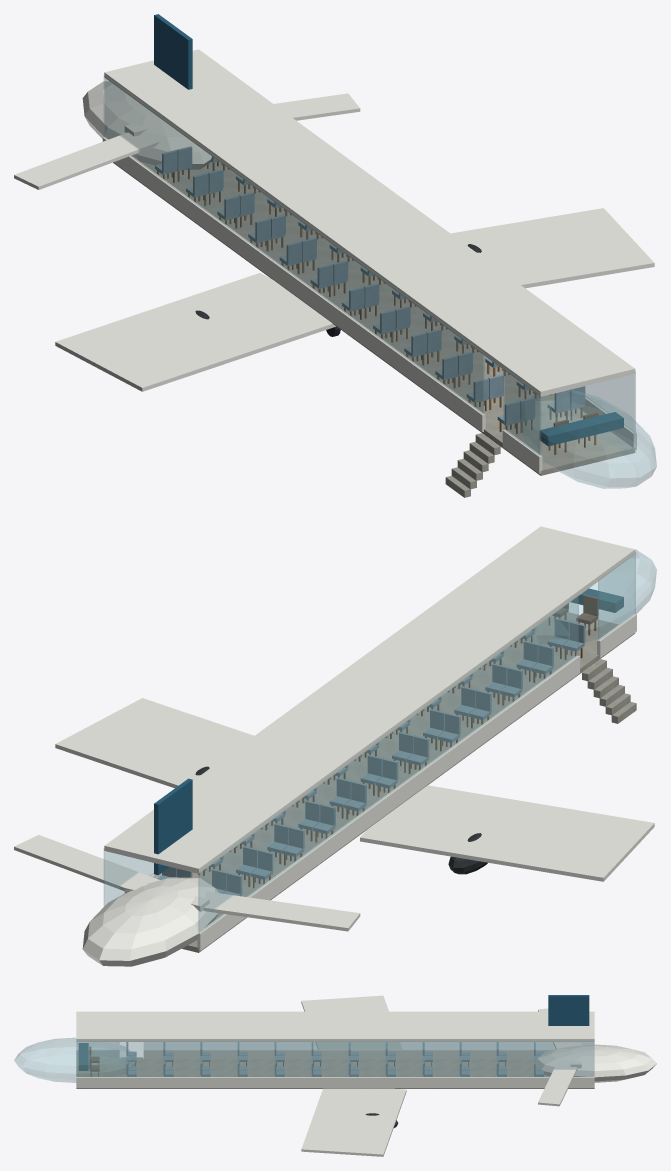
The model's file is 22_Passenger_Airplane_LOD1.glb.
3 renders of one model, top to bottom at view 1: azimuth 30°, elevation 25°; view 2: azimuth 150°, elevation 25°; view 3: azimuth 270°, elevation 25°, orthographic. The views are drawn at different scales.
Parts seen in each view (by area): view 1: Cabin roof, Boarding side windows.001, Wing, Cabin floor, Wing.001, Nose, Boarding side lower.001, Tail cone, Tailplane, Boarding side windows, Tail fin, Cabin windows.001 (+3 smaller); view 2: Cabin roof, Boarding side windows.001, Wing, Cabin floor, Wing.001, Tail cone, Boarding side lower.001, Nose, Tailplane, Tailplane.001, Boarding side windows, Tail fin (+3 smaller); view 3: Cabin windows.001, Cabin roof, Cabin floor, Wing.001, Fuselage side lower.001, Boarding side lower.001, Nose, Boarding side windows.001, Tail cone, Wing, Tail fin, Tailplane.001 (+2 smaller).
Boxes of the visible parts, box(x1,y1,x2,y2) form: Cabin roof: box(104, 49, 635, 396); Boarding side windows.001: box(104, 75, 484, 414); Wing: box(55, 273, 335, 391); Cabin floor: box(113, 161, 635, 475); Wing.001: box(450, 208, 654, 288); Nose: box(520, 390, 656, 488); Boarding side lower.001: box(102, 137, 485, 431); Tail cone: box(82, 81, 211, 169); Tailplane: box(14, 132, 159, 189); Boarding side windows: box(503, 368, 540, 456); Tail fin: box(154, 14, 192, 89); Cabin windows.001: box(585, 371, 635, 432); Cabin roof: box(104, 526, 635, 873); Boarding side windows.001: box(198, 594, 578, 933); Wing: box(360, 785, 654, 881); Cabin floor: box(182, 612, 635, 952); Wing.001: box(55, 698, 254, 788); Tail cone: box(82, 877, 218, 966); Boarding side lower.001: box(197, 655, 579, 950); Nose: box(530, 550, 656, 644); Tailplane: box(203, 891, 360, 931); Tailplane.001: box(14, 835, 159, 890); Boarding side windows: box(598, 552, 635, 640); Tail fin: box(154, 778, 192, 875); Cabin windows.001: box(76, 1040, 594, 1077); Cabin roof: box(76, 1011, 594, 1041); Cabin floor: box(76, 1058, 594, 1088); Wing.001: box(301, 1088, 406, 1156); Fuselage side lower.001: box(76, 1077, 594, 1087); Boarding side lower.001: box(143, 1049, 553, 1058); Nose: box(14, 1038, 137, 1082); Boarding side windows.001: box(144, 1042, 594, 1049); Tail cone: box(533, 1044, 656, 1082); Wing: box(301, 995, 402, 1049); Tail fin: box(548, 995, 589, 1025); Tailplane.001: box(538, 1062, 577, 1106).
Size of the model in its own units: 20.32 by 6.15 by 34.72.
11 materials, 5 textured.
